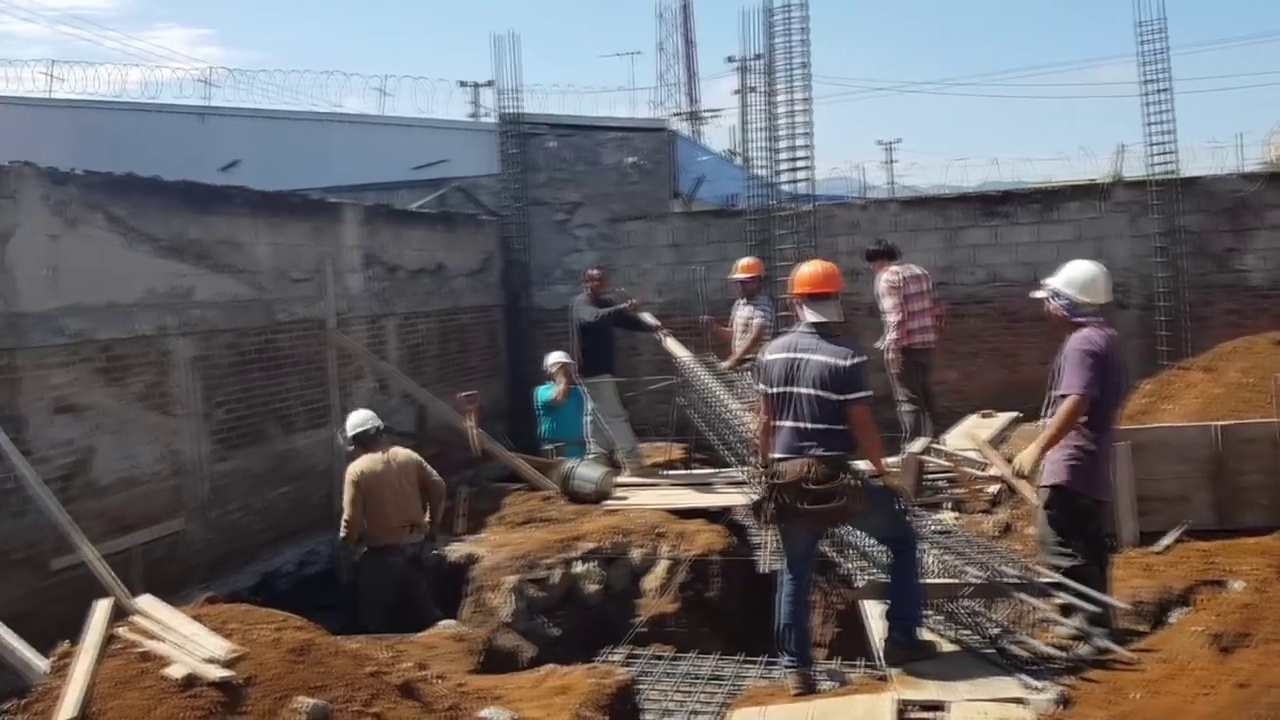helmet: (1039, 254, 1116, 309), (787, 258, 847, 298), (338, 409, 385, 441), (725, 257, 764, 282), (543, 350, 575, 373)
helmet-off: (861, 237, 903, 276), (580, 263, 609, 297)
helmet-on: (1027, 253, 1117, 338), (786, 259, 846, 331), (340, 411, 385, 461), (724, 257, 766, 298), (544, 350, 575, 387)
person: (759, 258, 942, 688), (1013, 254, 1118, 658), (338, 407, 449, 631), (862, 235, 949, 479), (566, 263, 663, 473), (718, 254, 778, 374), (534, 350, 585, 465)
